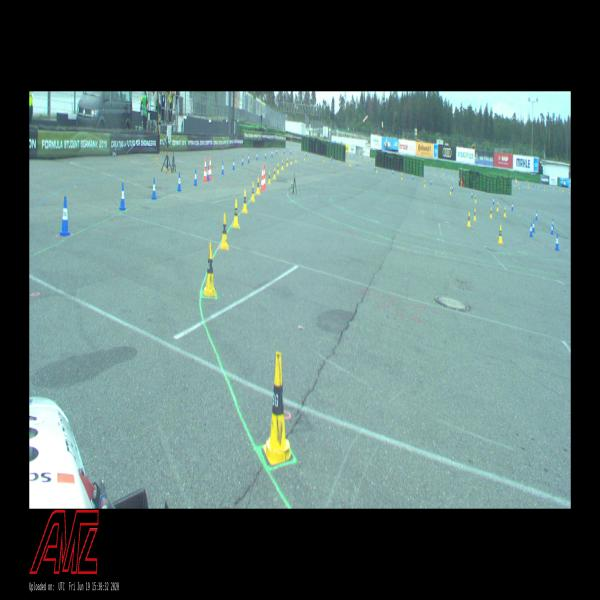blue_cone: (60, 196, 70, 236), (119, 183, 126, 210), (152, 178, 156, 199), (177, 174, 181, 191), (555, 234, 559, 250), (194, 169, 197, 186), (207, 166, 210, 180), (532, 220, 535, 233), (530, 222, 532, 237), (222, 162, 224, 175), (551, 222, 553, 235), (511, 202, 514, 210), (233, 159, 235, 170), (242, 155, 244, 166), (552, 218, 554, 229), (248, 153, 250, 163), (256, 151, 258, 160), (492, 196, 494, 205), (271, 149, 273, 157), (471, 190, 473, 198), (451, 184, 453, 192), (290, 148, 292, 155), (430, 178, 432, 185), (330, 155, 332, 161), (392, 168, 394, 174), (536, 210, 537, 220), (265, 150, 266, 158), (357, 160, 358, 167), (412, 173, 413, 180), (276, 148, 277, 154), (306, 150, 307, 156), (284, 147, 284, 154)
large_orange_cone: (260, 166, 265, 190), (203, 157, 207, 182), (209, 156, 212, 179), (264, 165, 266, 189)
yellow_cone: (263, 352, 293, 464), (204, 242, 216, 297), (220, 213, 229, 249), (232, 199, 240, 228), (242, 189, 248, 213), (251, 182, 255, 201), (498, 226, 502, 244), (256, 178, 260, 194), (467, 212, 470, 226), (268, 171, 271, 184), (473, 208, 476, 220), (273, 168, 276, 178), (496, 202, 499, 212), (277, 163, 279, 174), (490, 207, 492, 218), (282, 160, 284, 170), (504, 206, 506, 216), (474, 194, 476, 203), (290, 157, 292, 164), (376, 166, 378, 173), (304, 154, 306, 160), (287, 157, 288, 166), (402, 172, 403, 180), (424, 180, 425, 188), (450, 187, 451, 195), (324, 156, 325, 163), (350, 160, 351, 167), (296, 155, 296, 162)
